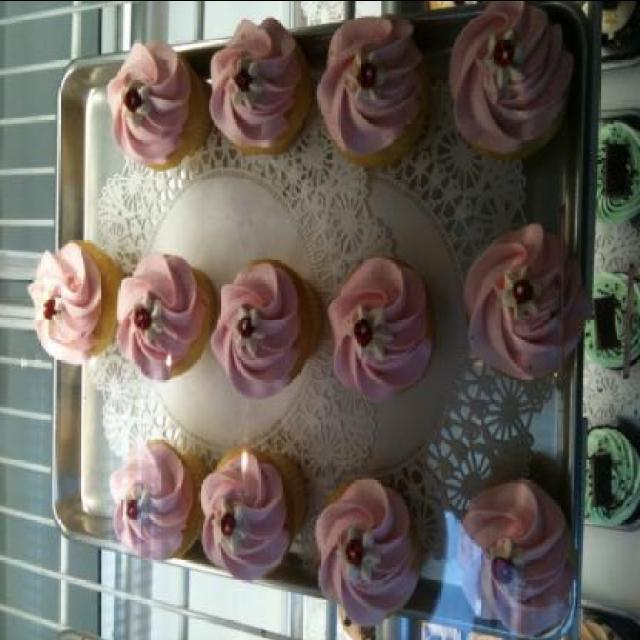Muffin: (24, 2, 584, 640), (584, 266, 640, 372), (579, 426, 639, 520), (596, 119, 639, 230)
